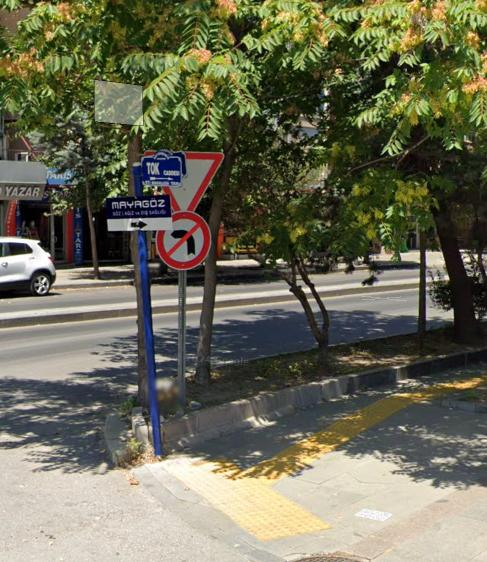leftturnsareforbidden: (161, 217, 211, 265)
